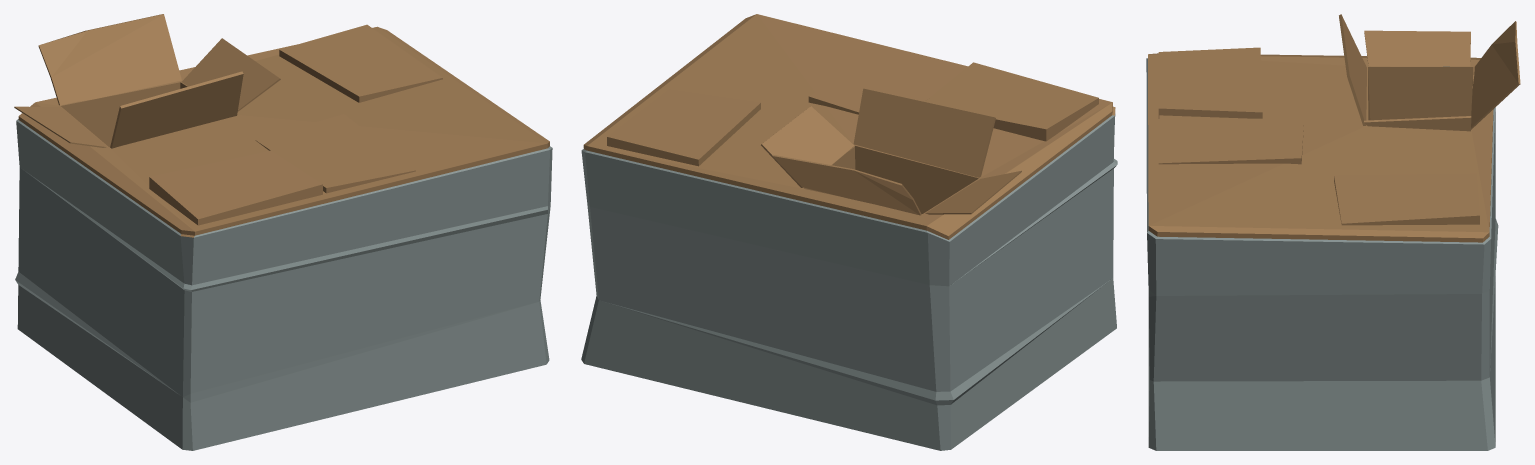
The model's file is ShrinkWrapped_02.fbx.
The picture shows the model from 3 angles, left to right: view 1: azimuth 30°, elevation 25°; view 2: azimuth 150°, elevation 25°; view 3: azimuth 270°, elevation 25°; orthographic projection.
Parts seen in each view (by area): view 1: ShrinkWrapped_02; view 2: ShrinkWrapped_02; view 3: ShrinkWrapped_02.
Boxes of the visible parts, left/top/right/bottom form: ShrinkWrapped_02: left=14, top=14, right=552, bottom=450; ShrinkWrapped_02: left=581, top=14, right=1117, bottom=450; ShrinkWrapped_02: left=1146, top=14, right=1520, bottom=450.
Size of the model in its own units: 1.2 by 0.8137 by 1.01.
